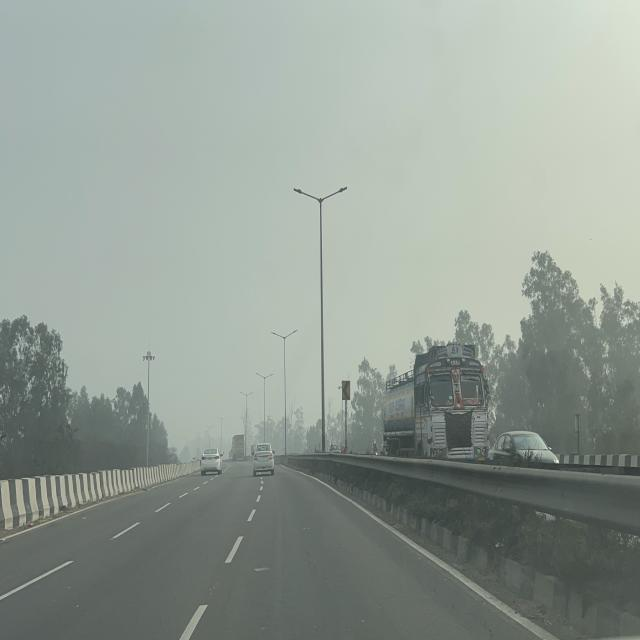TURN_LEFT: (342, 380, 351, 400)
